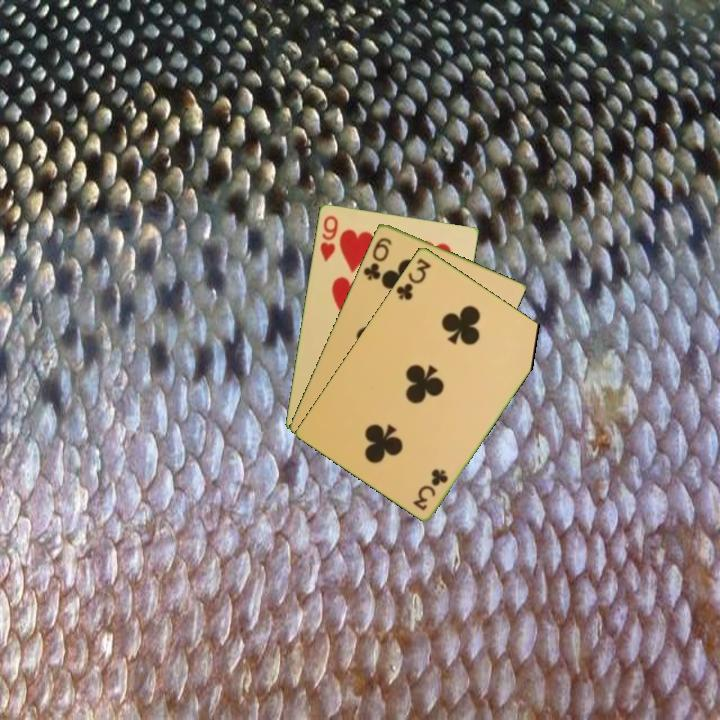3c: (392, 254, 434, 303), (410, 465, 451, 513)
6c: (360, 233, 395, 283)
9h: (316, 212, 341, 264)
